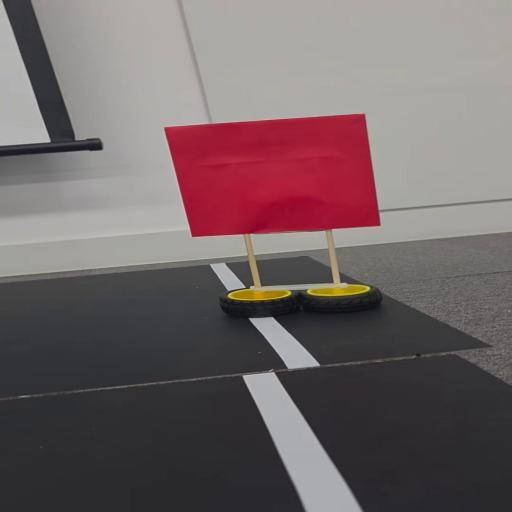Sign_A: (160, 111, 386, 320)
